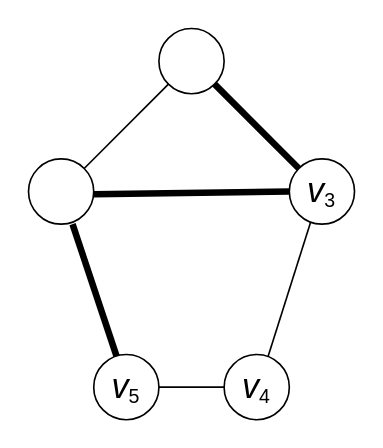
Some shapes in this 383 by 448 pixel diagram are drawn without their labels. The box of each missing label's shape, as (x1, y1, x2, y2) in pixels:
v 1: (27, 157, 94, 224)
v 2: (157, 27, 224, 94)
